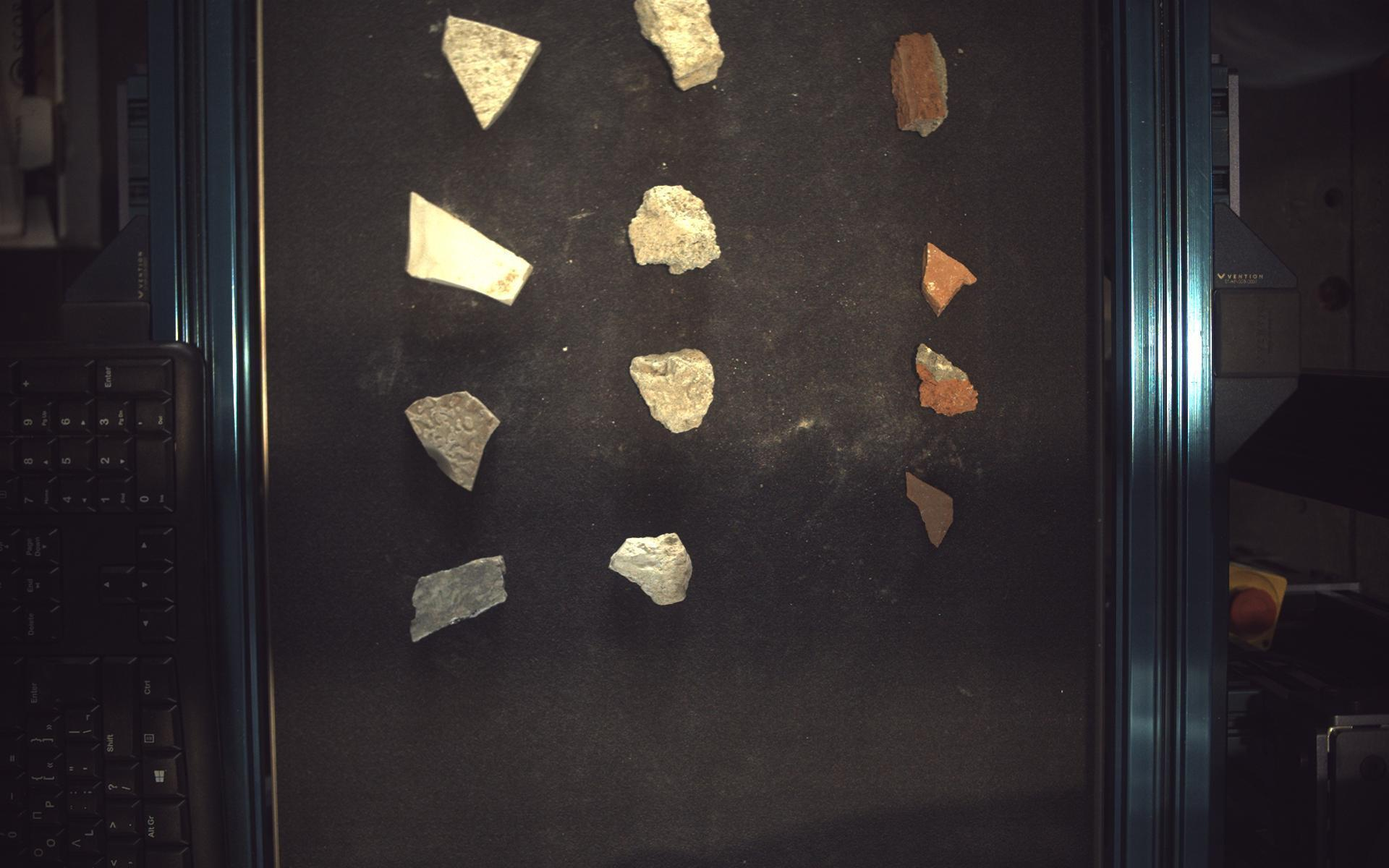brick: (893, 31, 949, 136), (917, 344, 980, 416), (924, 242, 979, 315), (908, 472, 955, 548)
concrete: (629, 184, 722, 274), (635, 1, 726, 89), (630, 348, 715, 433), (610, 534, 693, 606)
tile: (407, 192, 533, 305), (442, 14, 540, 128), (405, 391, 500, 490), (410, 556, 507, 643)
